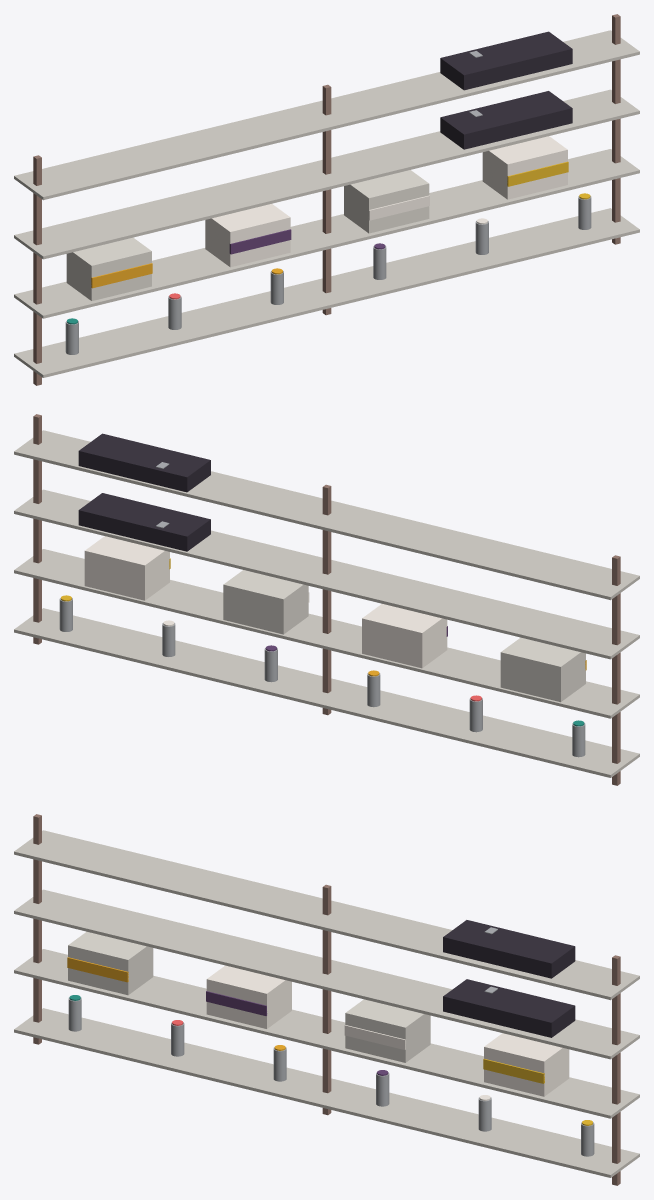
Rendered from hall_storage_shelf.glb.
3 renders of one model, top to bottom at view 1: azimuth 30°, elevation 25°; view 2: azimuth 150°, elevation 25°; view 3: azimuth 330°, elevation 25°, orthographic.
Parts seen in each view (by area): view 1: shelf_0, shelf_2, shelf_3, shelf_1, tool_tray, tool_tray.001, paper_box_3, paper_box_0, paper_box_1, paper_box_2, upright_-2400, upright_0 (+5 smaller); view 2: shelf_0, shelf_2, shelf_3, shelf_1, tool_tray, tool_tray.001, paper_box_0, paper_box_3, paper_box_2, paper_box_1, upright_-2400, upright_0 (+1 smaller); view 3: shelf_0, shelf_2, shelf_3, shelf_1, tool_tray.001, tool_tray, paper_box_0, paper_box_3, paper_box_2, paper_box_1, upright_2400, upright_0 (+5 smaller).
Part boxes in pixels (left/top/right/bottom): shelf_0: left=14, top=208, right=639, bottom=377; shelf_2: left=14, top=89, right=639, bottom=259; shelf_3: left=14, top=30, right=639, bottom=200; shelf_1: left=14, top=149, right=639, bottom=318; tool_tray: left=440, top=91, right=572, bottom=149; tool_tray.001: left=440, top=31, right=572, bottom=90; paper_box_3: left=482, top=136, right=567, bottom=199; paper_box_0: left=66, top=237, right=151, bottom=300; paper_box_1: left=205, top=204, right=290, bottom=267; paper_box_2: left=344, top=170, right=429, bottom=233; upright_-2400: left=33, top=155, right=41, bottom=385; upright_0: left=322, top=84, right=331, bottom=315; shelf_0: left=14, top=608, right=639, bottom=777; shelf_2: left=14, top=489, right=639, bottom=659; shelf_3: left=14, top=430, right=639, bottom=600; shelf_1: left=14, top=549, right=639, bottom=718; tool_tray: left=78, top=493, right=210, bottom=551; tool_tray.001: left=78, top=433, right=210, bottom=492; paper_box_0: left=500, top=637, right=585, bottom=702; paper_box_3: left=84, top=536, right=169, bottom=600; paper_box_2: left=223, top=570, right=308, bottom=634; paper_box_1: left=362, top=604, right=447, bottom=668; upright_-2400: left=612, top=555, right=620, bottom=785; upright_0: left=322, top=484, right=331, bottom=715; shelf_0: left=14, top=1008, right=639, bottom=1177; shelf_2: left=14, top=889, right=639, bottom=1059; shelf_3: left=14, top=830, right=639, bottom=1000; shelf_1: left=14, top=949, right=639, bottom=1118; tool_tray.001: left=443, top=920, right=575, bottom=978; tool_tray: left=443, top=979, right=575, bottom=1037; paper_box_0: left=68, top=931, right=153, bottom=995; paper_box_3: left=484, top=1033, right=569, bottom=1096; paper_box_2: left=345, top=999, right=430, bottom=1062; paper_box_1: left=206, top=965, right=291, bottom=1028; upright_2400: left=612, top=955, right=620, bottom=1185; upright_0: left=322, top=884, right=331, bottom=1115.
Size of the model in its own units: 4.95 by 1.8 by 0.42.
